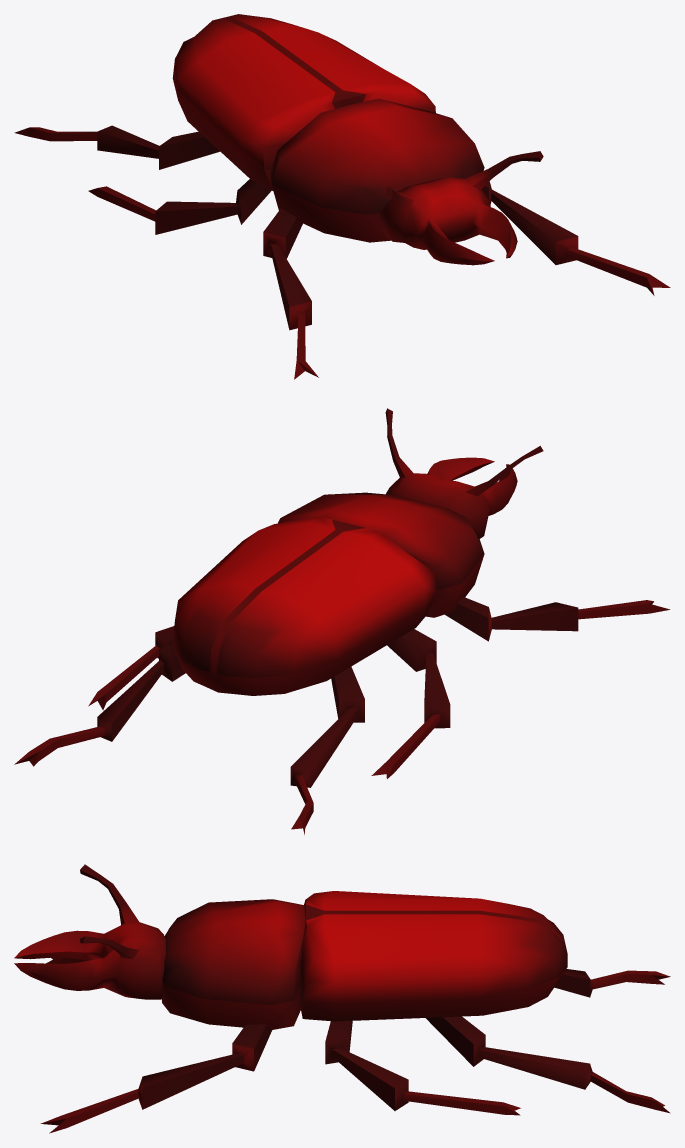
The model's file is Insects_GoldenStagBeetle.fbx.
3 renders of one model, top to bottom at view 1: azimuth 30°, elevation 25°; view 2: azimuth 150°, elevation 25°; view 3: azimuth 270°, elevation 25°, orthographic. The views are drawn at different scales.
Parts seen in each view (by area): view 1: base; view 2: base; view 3: base.
Part boxes in pixels (x1,y1,x2,y2): base: (14, 14, 670, 379); base: (14, 408, 669, 834); base: (14, 864, 670, 1133).
Bounding box in the file's own units: 88.98 × 33.94 × 140.
